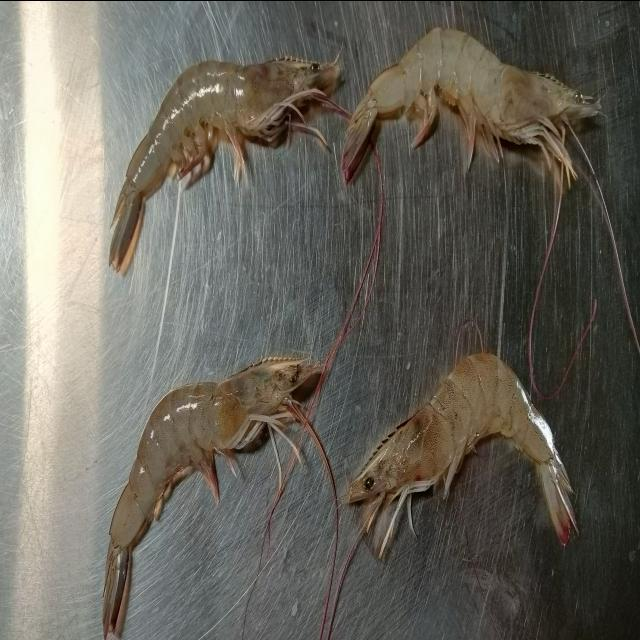shrimp: (102, 357, 330, 637), (108, 55, 347, 273), (338, 351, 579, 546), (342, 27, 604, 186)
